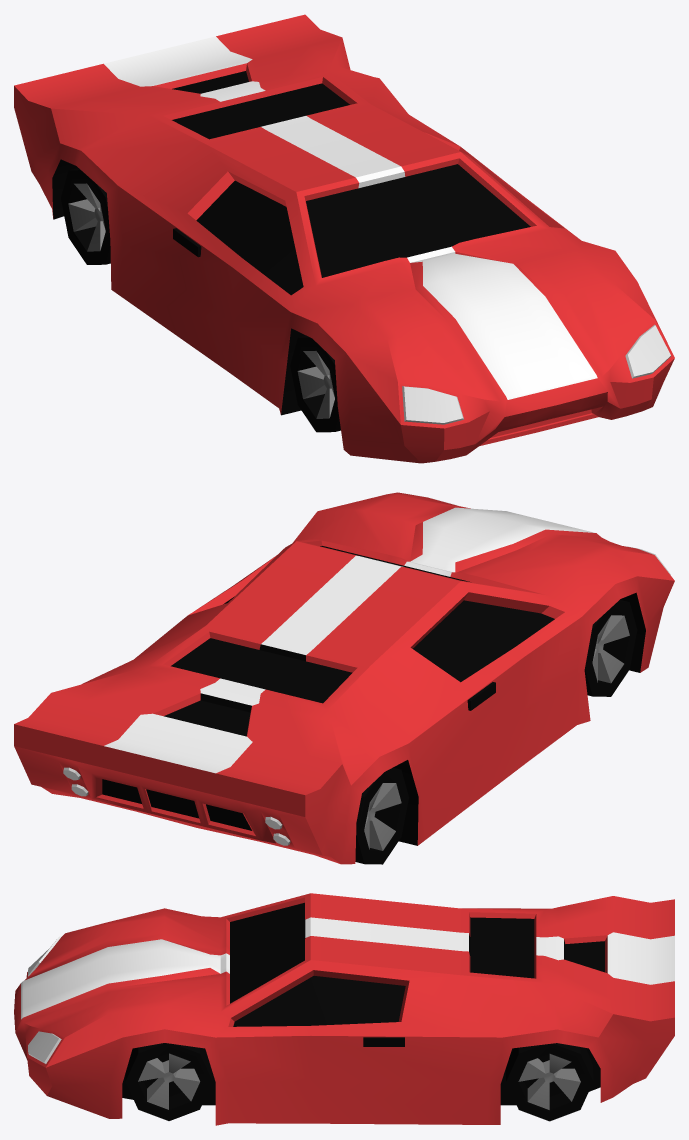
The model's file is Primer auto  -  Prototipo low poly.fbx.
3 views of the same model, one above another, from view 1: azimuth 30°, elevation 25°; view 2: azimuth 150°, elevation 25°; view 3: azimuth 270°, elevation 25° (orthographic). The views are drawn at different scales.
Parts seen in each view (by area): view 1: Cube; view 2: Cube; view 3: Cube.
Boxes of the visible parts, box(x1,y1,x2,y2) form: Cube: box(14, 14, 674, 463); Cube: box(14, 492, 674, 864); Cube: box(14, 893, 674, 1125).
Size of the model in its own units: 123 by 62.35 by 274.
